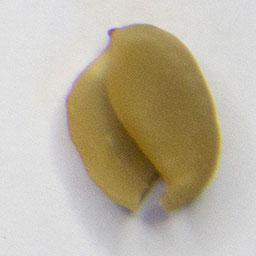defect: (62, 20, 226, 216)
